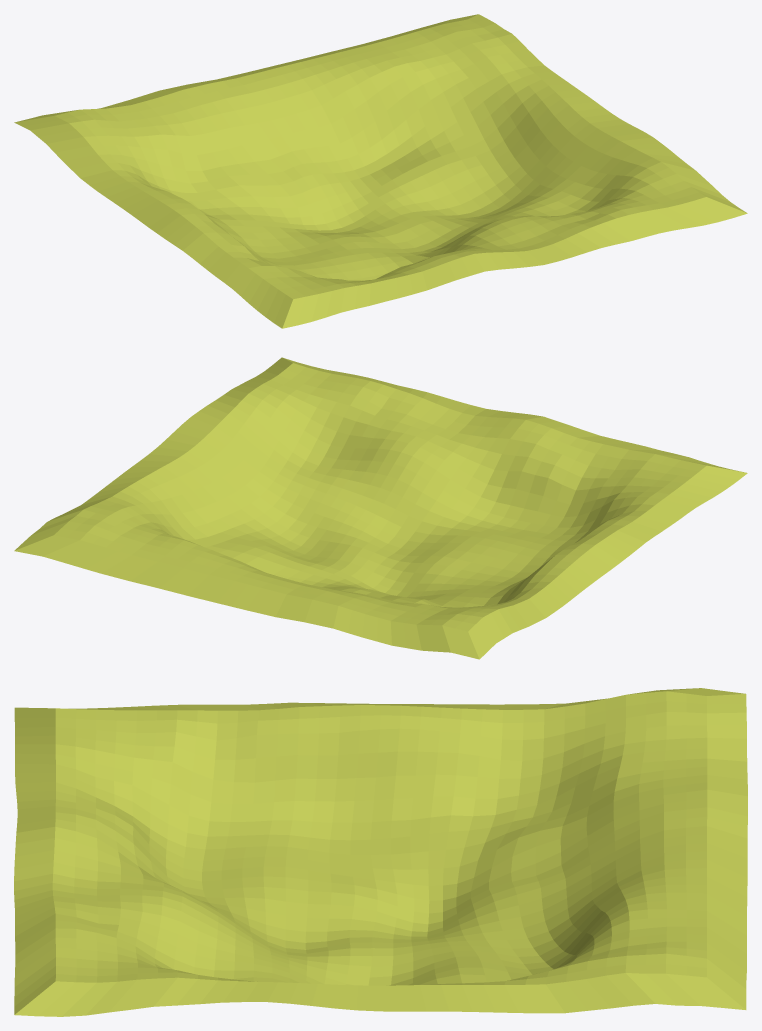
Rendered from oceansand.fbx.
3 renders of one model, top to bottom at view 1: azimuth 30°, elevation 25°; view 2: azimuth 150°, elevation 25°; view 3: azimuth 270°, elevation 25°, orthographic. The views are drawn at different scales.
Visible parts, largest first — view 1: oceansand; view 2: oceansand; view 3: oceansand.
Boxes of the visible parts, box(x1,y1,x2,y2) form: oceansand: box(14, 14, 747, 328); oceansand: box(14, 357, 747, 659); oceansand: box(14, 688, 747, 1016).
Size of the model in its own units: 2255 by 399 by 2254.
